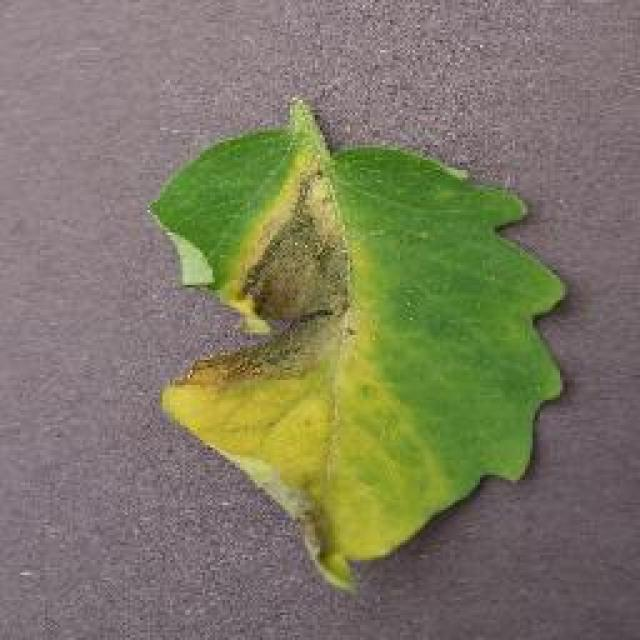Tomato Late Blight: (222, 115, 392, 582)
